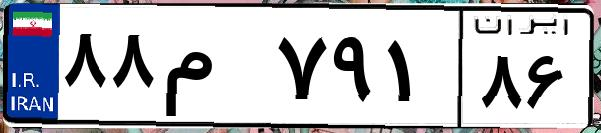1: (385, 28, 445, 110)
6: (525, 38, 570, 115)
7: (270, 28, 330, 110)
8: (57, 26, 110, 100), (475, 38, 525, 113), (110, 28, 158, 98)
9: (330, 28, 385, 110)
م: (158, 20, 270, 120)
